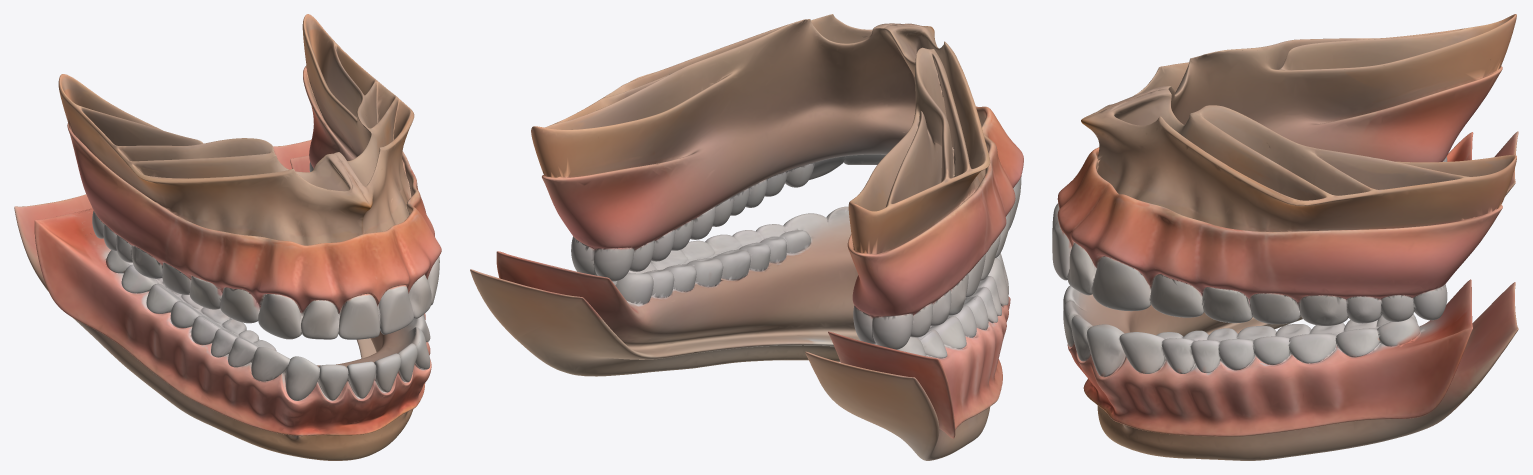
File: mordida.glb
3 views of the same model, side by side, from view 1: azimuth 30°, elevation 25°; view 2: azimuth 150°, elevation 25°; view 3: azimuth 270°, elevation 25° (orthographic). The views are drawn at different scales.
Visible parts, largest first — view 1: node_0; view 2: node_0; view 3: node_0.
Part boxes in pixels (x1=…): node_0: x1=14, y1=14, x2=441, y2=460; node_0: x1=470, y1=14, x2=1023, y2=460; node_0: x1=1052, y1=14, x2=1518, y2=460.
Size of the model in its own units: 0.835 by 0.6762 by 0.8208.
Materials: 1 (1 with a texture image).
